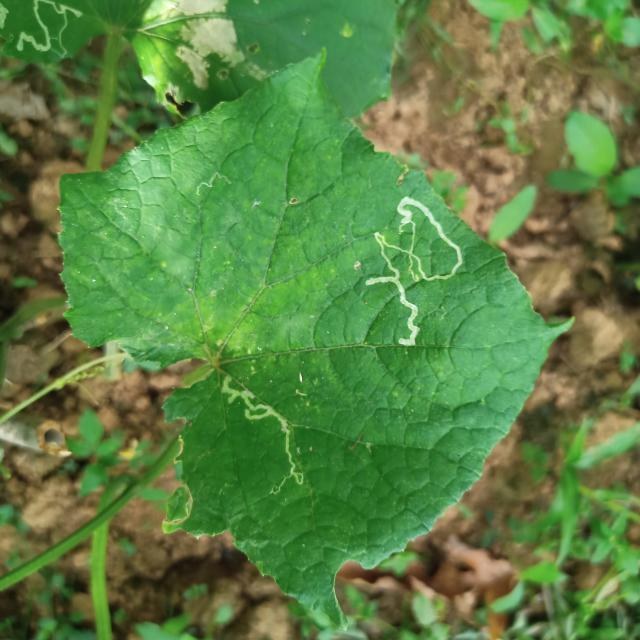disease_cucumber: (148, 2, 272, 92)
